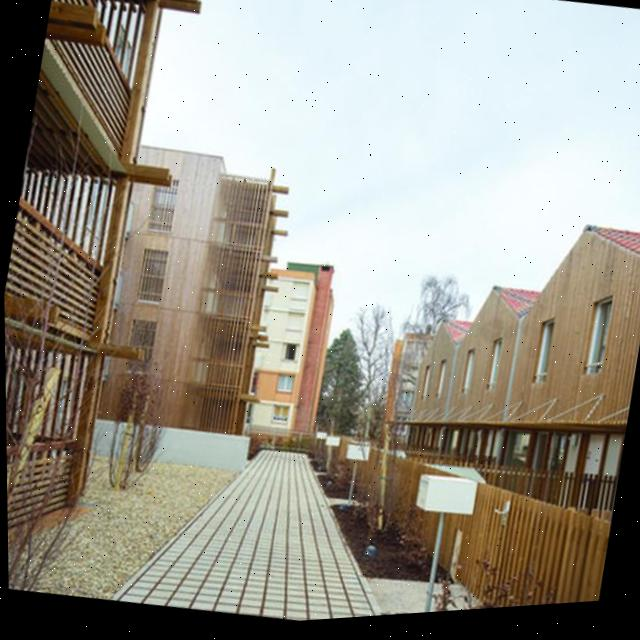building: (363, 185, 640, 536), (0, 0, 185, 525), (89, 124, 297, 452), (238, 227, 354, 445)
